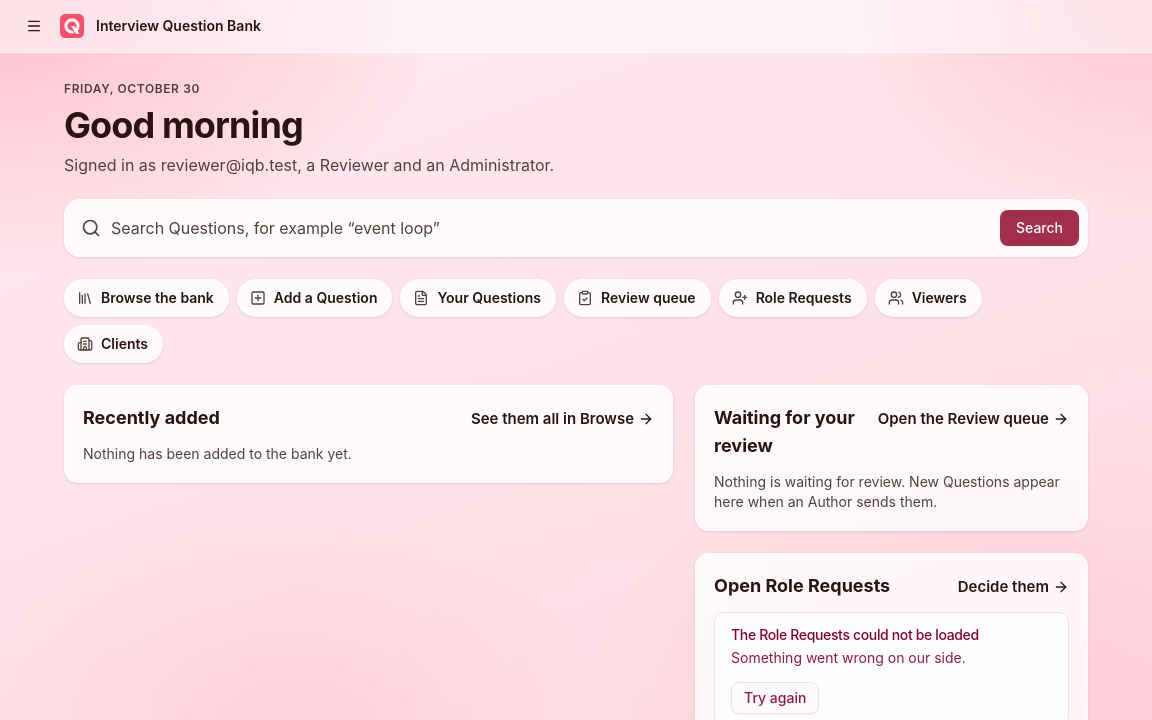
Test: Open Role Requests on Home › says so when the list fails, and leaves the other panels working
The image size is (1152, 720).
Expected: the text "The Role Requests could not be loaded" is shown, [731,626,979,643]
Expected: the text "Nothing is waiting for review. New Questions appear here when an Author sends them." is shown, [714,473,1060,510]
Click the button "Try again" at (775, 698), box [731,682,819,714]
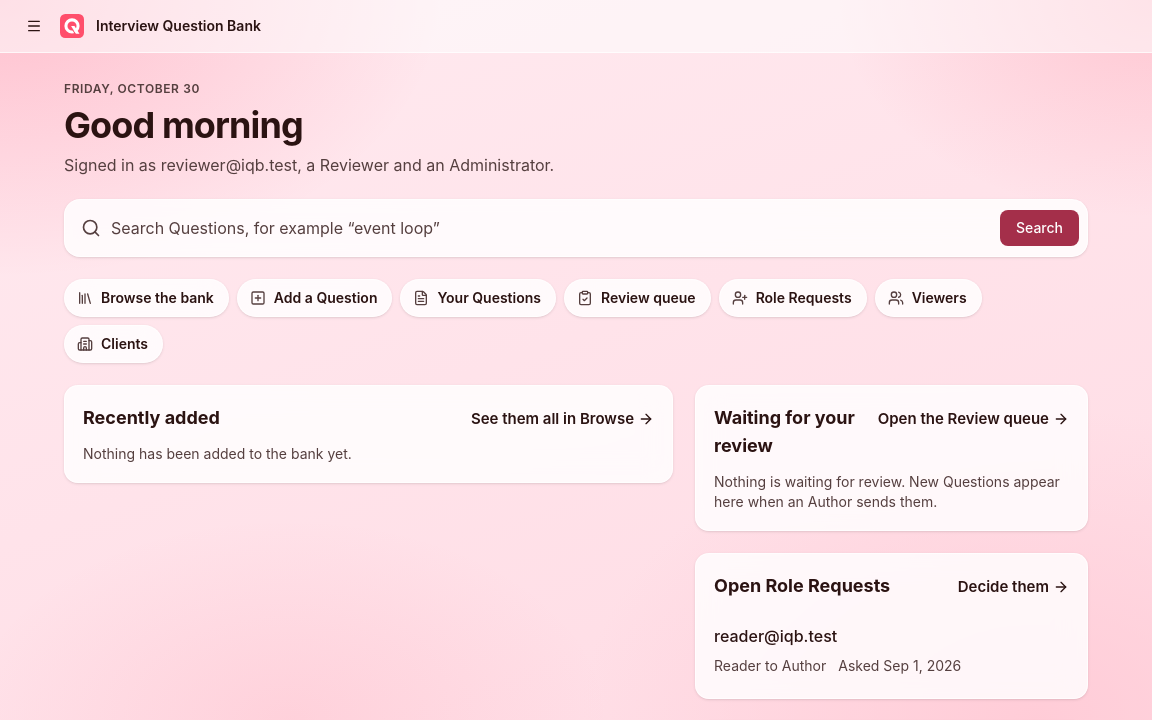
Result: the link "reader@iqb.test" is shown at [714,626,837,646]
